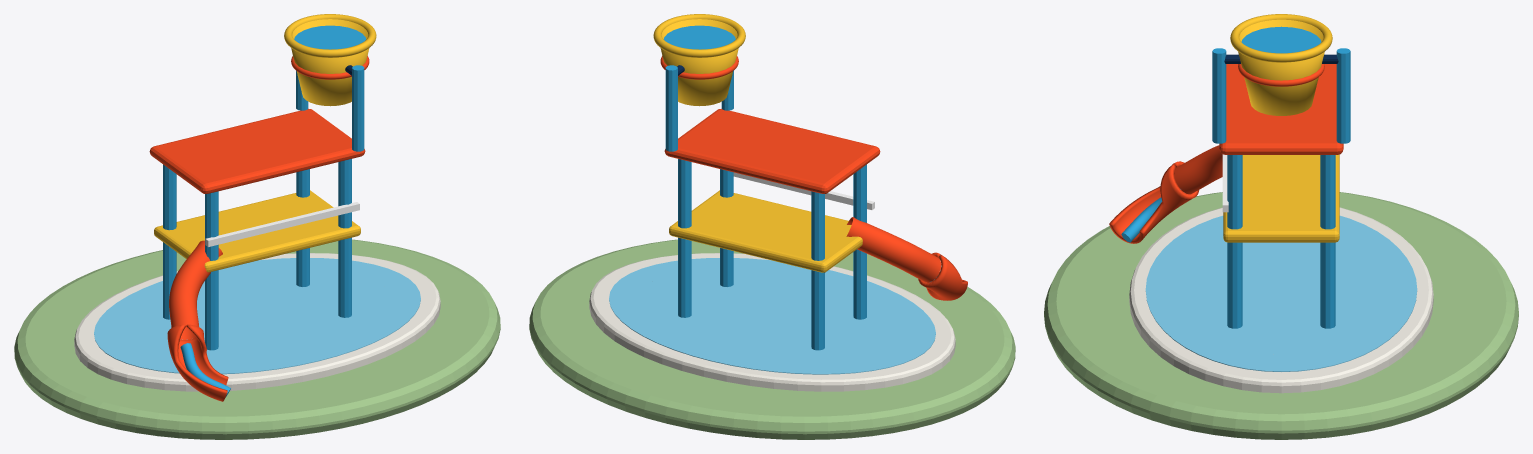
The model's file is 05-cowabunga-beach.glb.
3 views of the same model, side by side, from view 1: azimuth 30°, elevation 25°; view 2: azimuth 150°, elevation 25°; view 3: azimuth 270°, elevation 25° (orthographic). The views are drawn at different scales.
Visible parts, largest first — view 1: Base.004, Pool, Canopy, Pool Deck, Platform, Bucket, Mini Slide, Mini Slide Runout, Post.004, Post.002, Post.003, Bucket Rim (+5 smaller); view 2: Base.004, Pool, Canopy, Pool Deck, Platform, Bucket, Mini Slide, Post.003, Post.005, Post.002, Bucket Rim, Bucket Water (+4 smaller); view 3: Base.004, Pool, Pool Deck, Platform, Canopy, Bucket, Post.005, Post.004, Mini Slide Runout, Bucket Rim, Bucket Water, Mini Slide (+4 smaller).
Part boxes in pixels (left/top/right/bottom): Base.004: left=14, top=239, right=500, bottom=439; Pool: left=94, top=258, right=420, bottom=374; Canopy: left=149, top=108, right=365, bottom=193; Pool Deck: left=74, top=253, right=440, bottom=391; Platform: left=154, top=190, right=360, bottom=272; Bucket: left=291, top=19, right=369, bottom=106; Mini Slide: left=169, top=240, right=222, bottom=339; Mini Slide Runout: left=167, top=324, right=228, bottom=401; Post.004: left=338, top=159, right=351, bottom=317; Post.002: left=205, top=191, right=218, bottom=350; Post.003: left=163, top=164, right=176, bottom=319; Bucket Rim: left=284, top=14, right=376, bottom=57; Base.004: left=529, top=239, right=1015, bottom=439; Pool: left=609, top=258, right=935, bottom=374; Canopy: left=664, top=108, right=880, bottom=193; Pool Deck: left=589, top=253, right=955, bottom=391; Platform: left=669, top=190, right=862, bottom=272; Bucket: left=660, top=19, right=738, bottom=106; Mini Slide: left=846, top=217, right=941, bottom=282; Post.003: left=811, top=191, right=824, bottom=350; Post.005: left=678, top=159, right=691, bottom=317; Post.002: left=853, top=164, right=866, bottom=319; Bucket Rim: left=653, top=14, right=745, bottom=57; Bucket Water: left=663, top=25, right=735, bottom=49; Base.004: left=1044, top=192, right=1518, bottom=439; Pool: left=1145, top=215, right=1417, bottom=371; Pool Deck: left=1129, top=207, right=1433, bottom=393; Platform: left=1223, top=154, right=1339, bottom=242; Canopy: left=1219, top=64, right=1343, bottom=154; Bucket: left=1238, top=19, right=1324, bottom=115; Post.005: left=1320, top=155, right=1335, bottom=328; Post.004: left=1227, top=155, right=1242, bottom=328; Mini Slide Runout: left=1109, top=161, right=1199, bottom=243; Bucket Rim: left=1230, top=14, right=1332, bottom=62; Bucket Water: left=1241, top=26, right=1321, bottom=53; Mini Slide: left=1174, top=145, right=1222, bottom=194.
Bounding box in the file's own units: 3.6 × 2.36 × 3.06.
